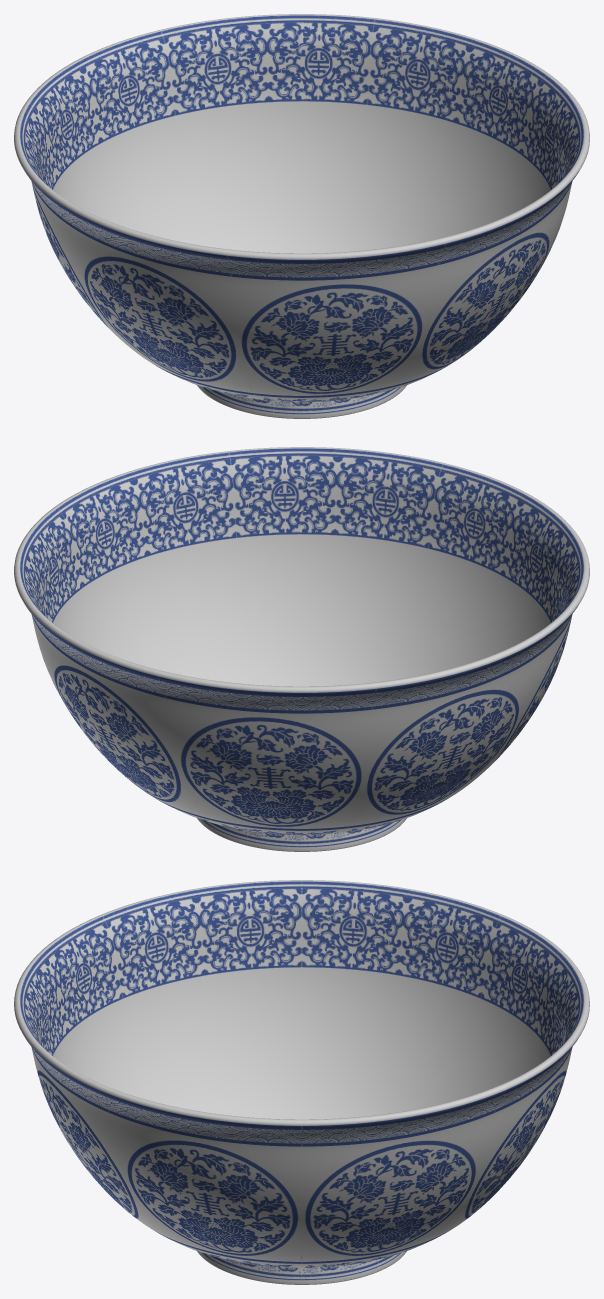
The picture shows the model from 3 angles, top to bottom: view 1: azimuth 30°, elevation 25°; view 2: azimuth 150°, elevation 25°; view 3: azimuth 270°, elevation 25°; orthographic projection.
Visible parts, largest first — view 1: Obj3d66-9530624-1-873; view 2: Obj3d66-9530624-1-873; view 3: Obj3d66-9530624-1-873.
Part boxes in pixels (x1,y1,x2,y2): Obj3d66-9530624-1-873: (14,14,589,418); Obj3d66-9530624-1-873: (14,447,589,851); Obj3d66-9530624-1-873: (14,880,589,1284).
Bounding box in the file's own units: 1.65 × 0.7567 × 1.65.
1 material, 1 textured.
